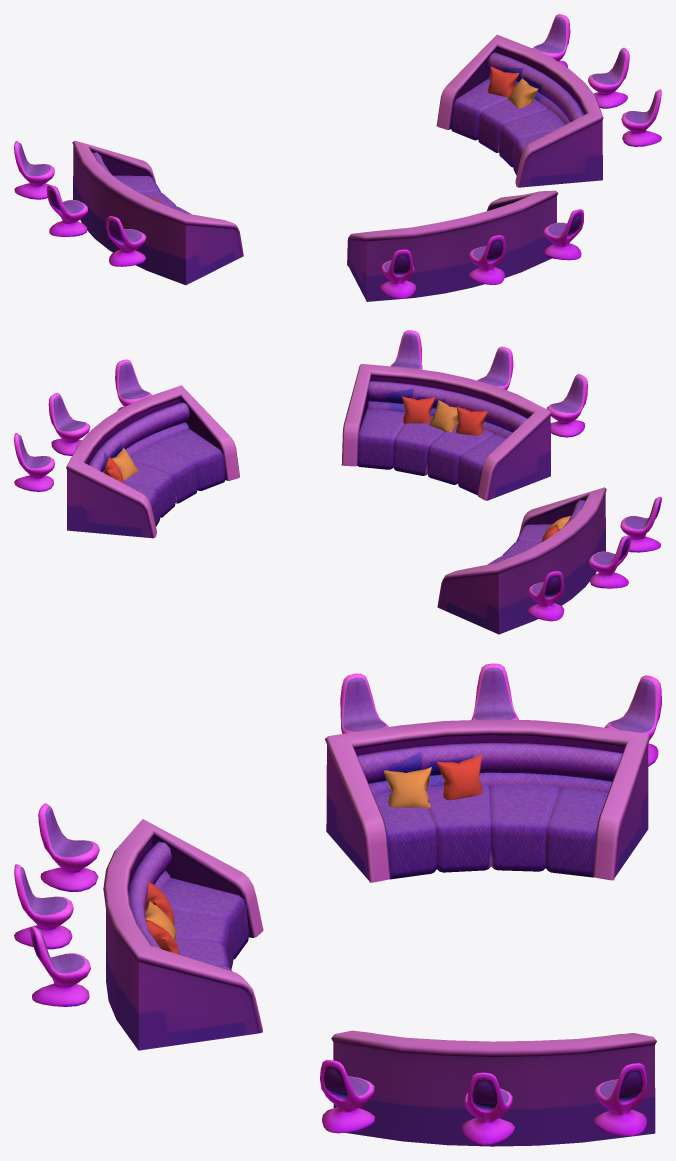
File: ChairsAndSofas.glb
3 views of the same model, one above another, from view 1: azimuth 30°, elevation 25°; view 2: azimuth 150°, elevation 25°; view 3: azimuth 270°, elevation 25° (orthographic). The views are drawn at different scales.
Visible parts, largest first — view 1: DCLNews_Sofa, DCLNews_Sofa.001, DCLNews_Sofa.002, DCLNews_Chair.001, DCLNews_Chair.009, DCLNews_Chair.006, DCLNews_Chair.008, DCLNews_Chair.005, DCLNews_Chair.007, DCLNews_Chair.002, DCLNews_Chair.004, Pillows (+1 smaller); view 2: DCLNews_Sofa.001, DCLNews_Sofa, DCLNews_Sofa.002, Pillows, DCLNews_Chair.007, DCLNews_Chair.001, DCLNews_Chair.003, DCLNews_Chair.004, DCLNews_Chair.005, DCLNews_Chair.006, DCLNews_Chair.002, DCLNews_Chair.008 (+1 smaller); view 3: DCLNews_Sofa.002, DCLNews_Sofa.001, DCLNews_Sofa, Pillows, DCLNews_Chair.007, DCLNews_Chair.002, DCLNews_Chair.003, DCLNews_Chair.001, DCLNews_Chair.009, DCLNews_Chair.008, DCLNews_Chair.004, DCLNews_Chair.006 (+1 smaller).
Boxes of the visible parts, x1,y1,x2,y2 form: DCLNews_Sofa: (436,34,603,187); DCLNews_Sofa.001: (347,190,558,301); DCLNews_Sofa.002: (72,140,243,285); DCLNews_Chair.001: (588,47,629,108); DCLNews_Chair.009: (543,209,583,260); DCLNews_Chair.006: (106,216,146,266); DCLNews_Chair.008: (468,235,505,284); DCLNews_Chair.005: (46,184,87,236); DCLNews_Chair.007: (380,249,416,298); DCLNews_Chair.002: (621,89,661,146); DCLNews_Chair.004: (14,141,54,199); Pillows: (149,66,537,202); DCLNews_Sofa.001: (341,363,551,500); DCLNews_Sofa: (66,385,239,538); DCLNews_Sofa.002: (437,487,606,634); Pillows: (104,396,570,542); DCLNews_Chair.007: (547,374,587,437); DCLNews_Chair.001: (48,393,90,455); DCLNews_Chair.003: (14,433,54,491); DCLNews_Chair.004: (528,571,564,621); DCLNews_Chair.005: (589,535,630,588); DCLNews_Chair.006: (620,496,661,552); DCLNews_Chair.002: (115,359,151,410); DCLNews_Chair.008: (477,346,513,389); DCLNews_Sofa.002: (325,719,650,882); DCLNews_Sofa.001: (103,819,263,1050); DCLNews_Sofa: (331,1030,656,1146); Pillows: (145,754,482,954); DCLNews_Chair.007: (38,803,99,891); DCLNews_Chair.002: (320,1059,375,1133); DCLNews_Chair.003: (594,1063,647,1136); DCLNews_Chair.001: (462,1072,515,1144); DCLNews_Chair.009: (30,926,90,1006); DCLNews_Chair.008: (14,864,73,949); DCLNews_Chair.004: (604,675,661,766); DCLNews_Chair.006: (340,673,388,733).
Size of what is drawn, in the model's own units: 15.76 by 2.06 by 10.49.
Materials: 3 (1 with a texture image).
